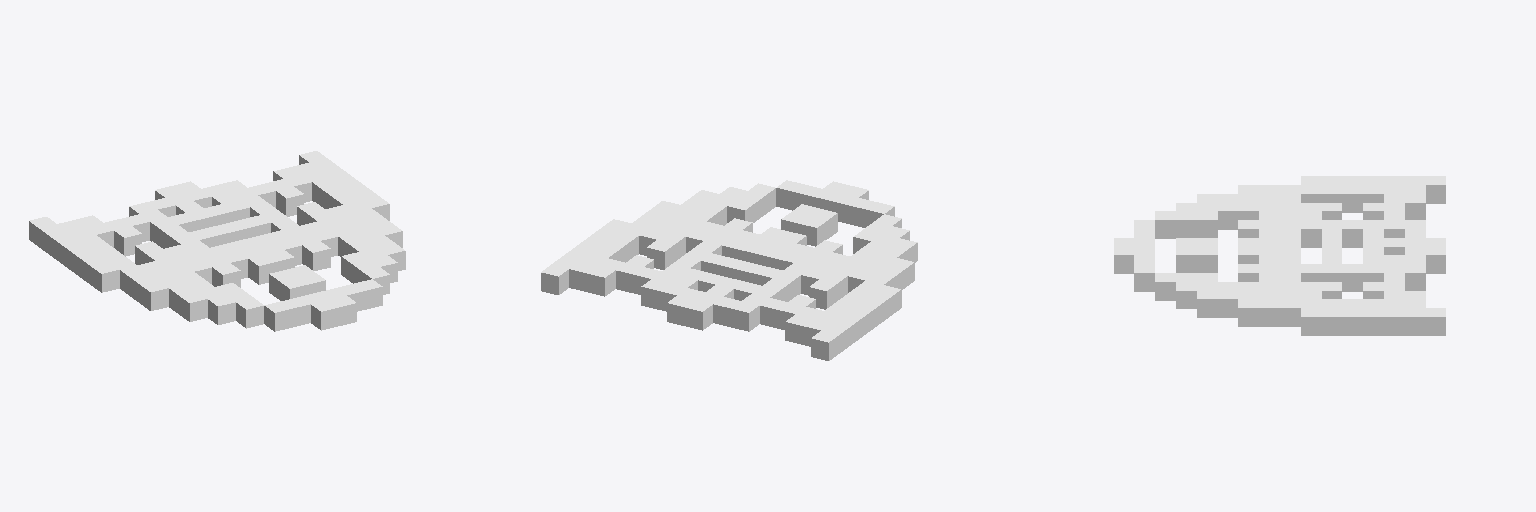
The model's file is Picture05-0-b29.obj.
The picture shows the model from 3 angles: view 1: azimuth 30°, elevation 25°; view 2: azimuth 150°, elevation 25°; view 3: azimuth 270°, elevation 25°; orthographic projection.
Visible parts, largest first — view 1: b29; view 2: b29; view 3: b29.
Part boxes in pixels (x1,y1,x2,y2): b29: (29, 151, 405, 331); b29: (541, 180, 917, 360); b29: (1114, 176, 1445, 335).
Bounding box in the file's own units: 1.6 × 0.1 × 1.6.